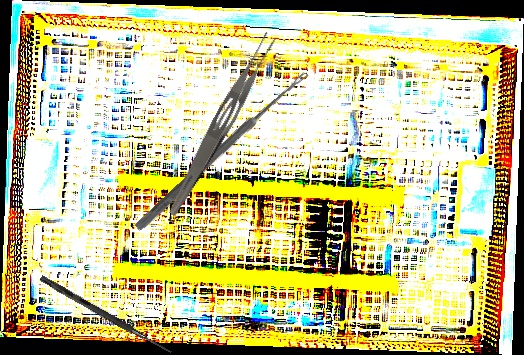Dressing Forceps: (164, 29, 281, 221)
Hook Surgical: (38, 275, 174, 355)
Surgical Spoon: (134, 68, 310, 233)
